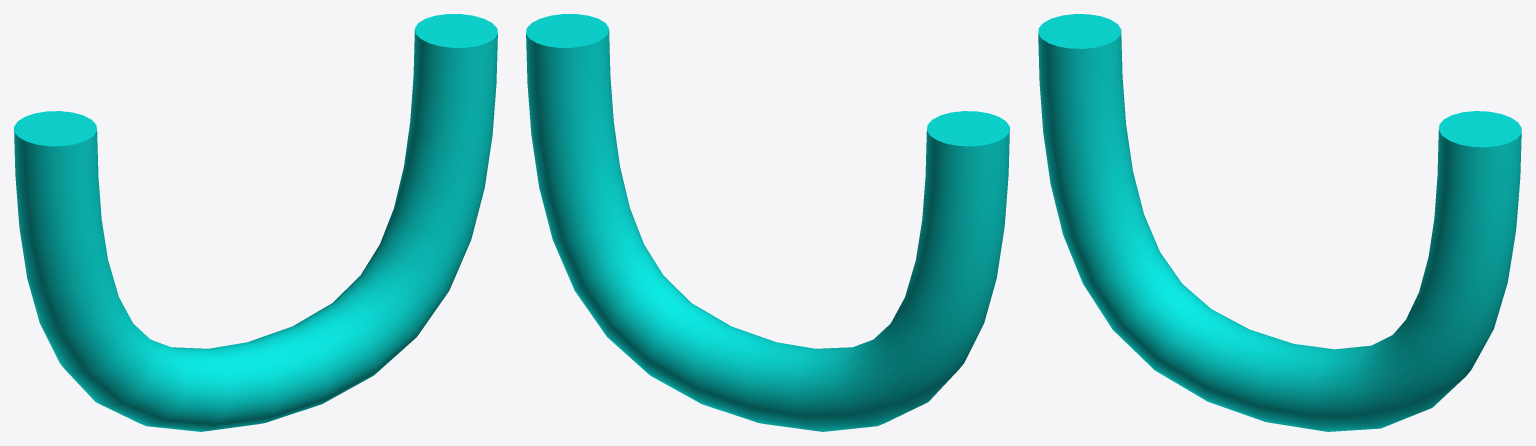
Rendered from U_liquid.fbx.
3 views of the same model, side by side, from view 1: azimuth 30°, elevation 25°; view 2: azimuth 150°, elevation 25°; view 3: azimuth 330°, elevation 25° (orthographic).
Visible parts, largest first — view 1: u_tube_liquid_u_shape; view 2: u_tube_liquid_u_shape; view 3: u_tube_liquid_u_shape.
Boxes of the visible parts, <box> form: u_tube_liquid_u_shape: <box>14,14,497,431</box>; u_tube_liquid_u_shape: <box>526,14,1009,431</box>; u_tube_liquid_u_shape: <box>1038,14,1521,431</box>.
Bounding box in the file's own units: 9.44 × 6.51 × 1.44.
